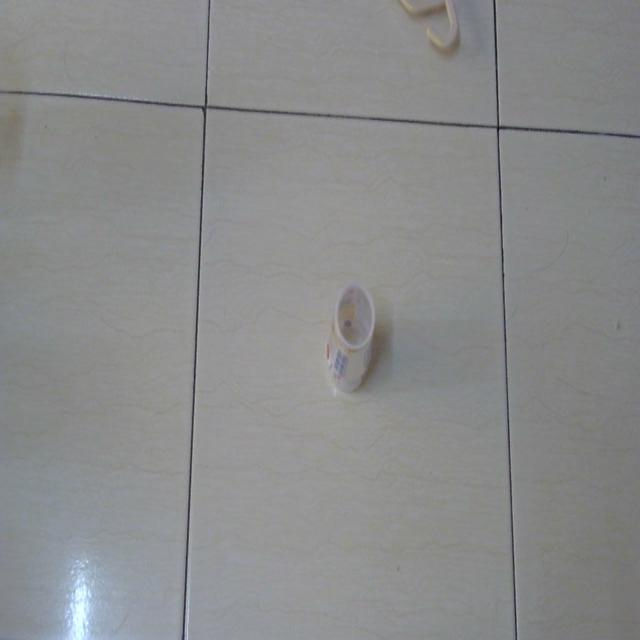plastic_standrotation: (318, 281, 382, 394)
